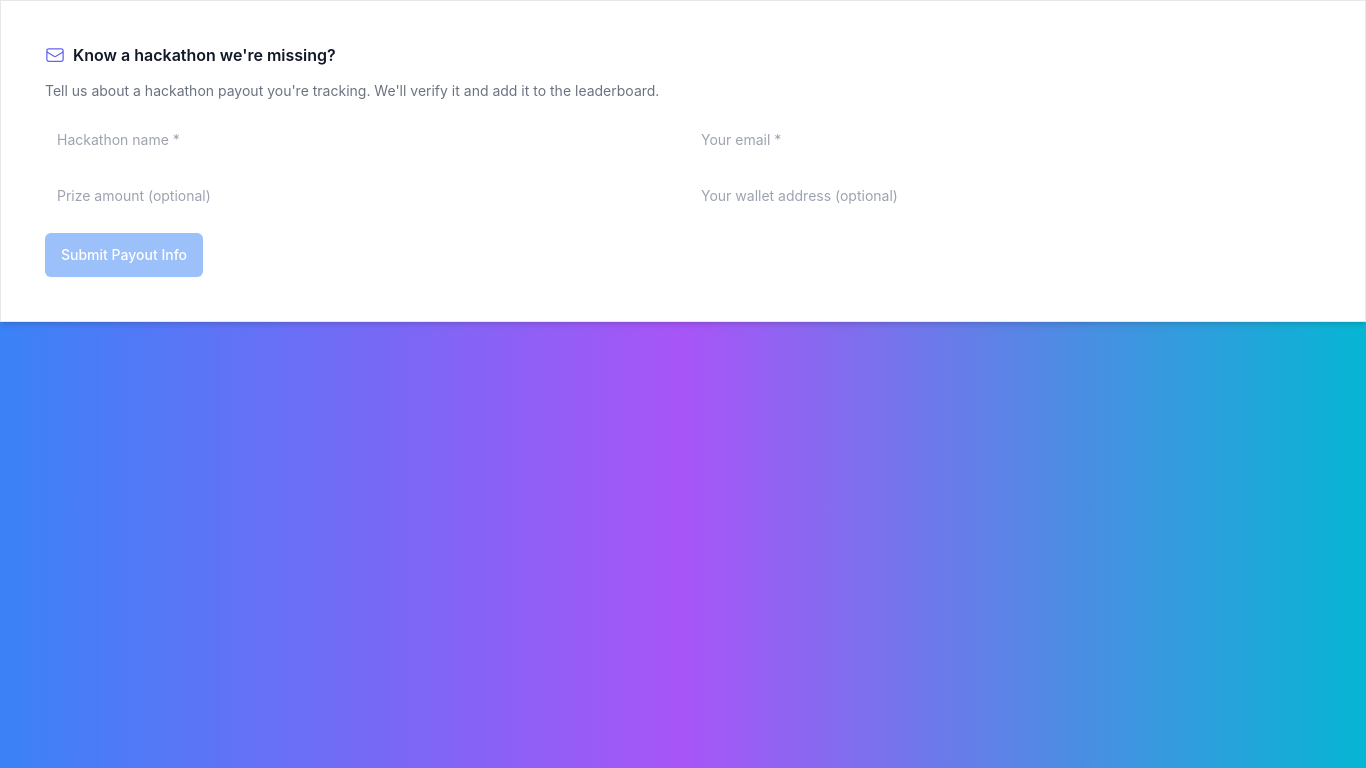
Test case: PayoutLeadForm › shows error toast on failure
The width and height of the screenshot is (1366, 768).
Type "Test Hackathon" into the field with placeholder "Hackathon name *" at point(361, 139), box [45,117,677,161]
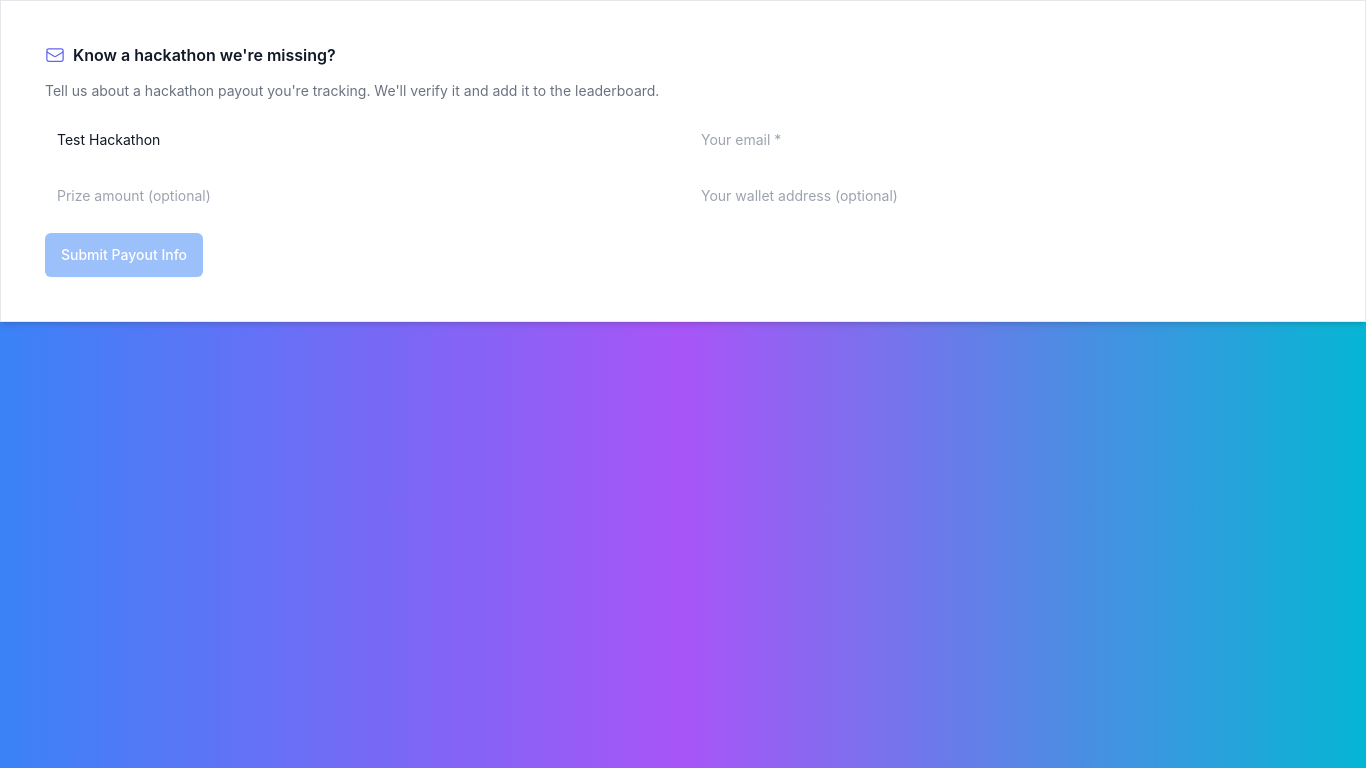
Type "test@example.com" into the field with placeholder "Your email *" at point(1005, 139), box [689,117,1321,161]
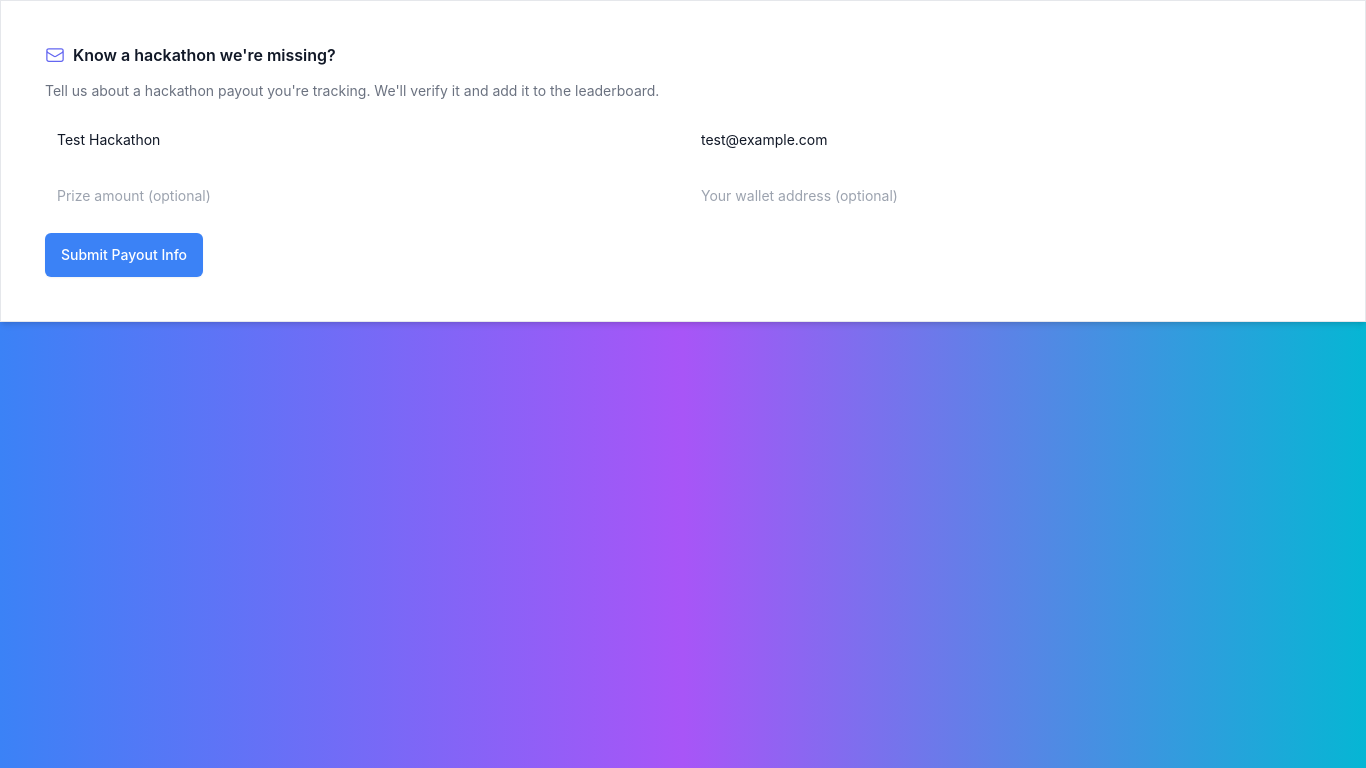
Click the button "Submit Payout Info" at point(124, 255), box [45,233,203,277]
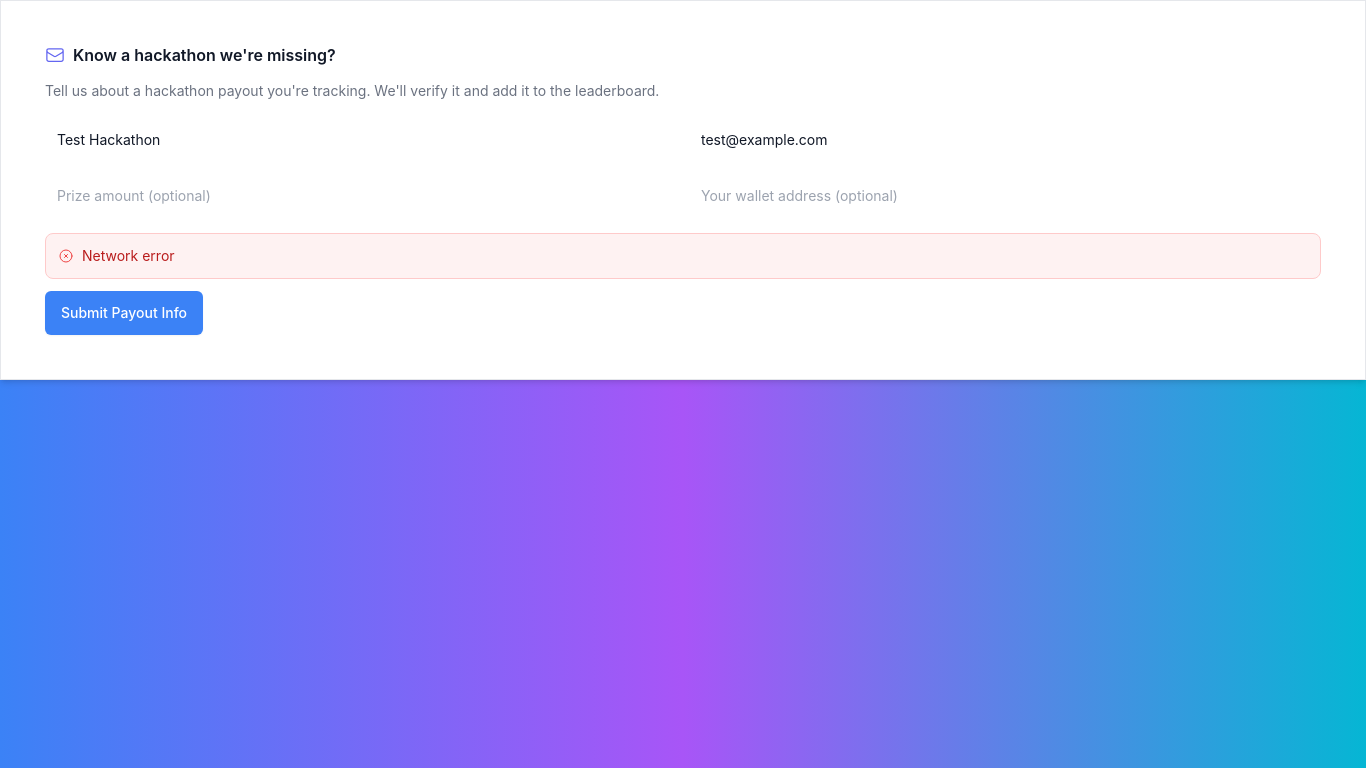
Now the text "Network error" is shown, box [82,246,175,266]
